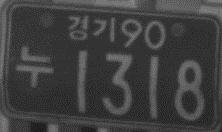0: (143, 19, 166, 51)
1: (67, 49, 99, 113), (139, 55, 169, 120)
3: (102, 52, 133, 116)
8: (173, 58, 205, 122)
9: (119, 18, 141, 47)
경기_O: (67, 14, 116, 43)
누: (16, 45, 53, 88)
